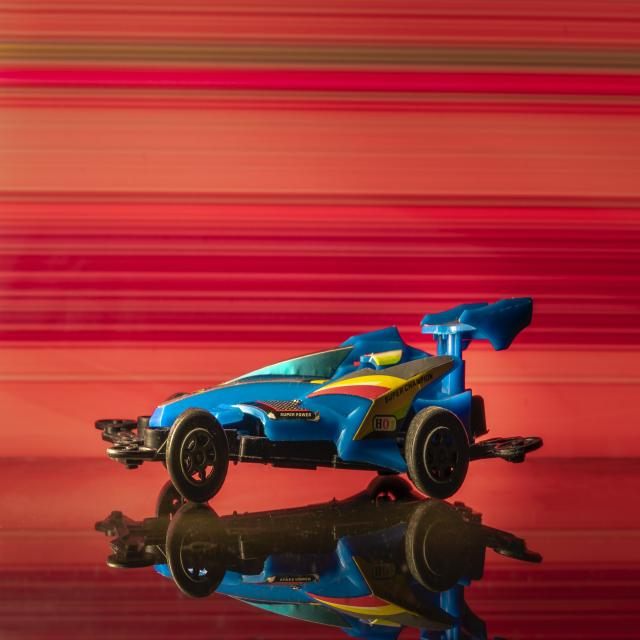Car: (96, 298, 542, 502)
